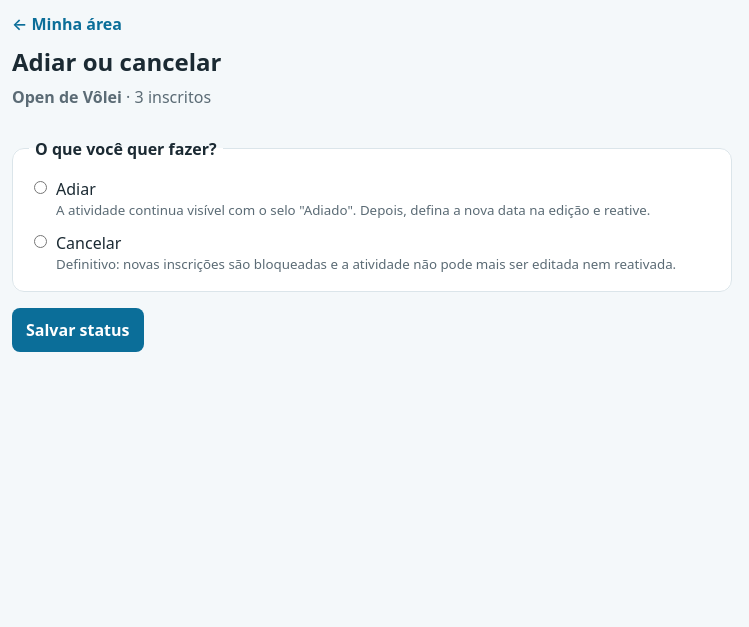
Test: AlterarStatusPage › mostra o erro da API
Click the radio button labelled "Adiar" at x=40, y=187, box 34,181 -> 47,194
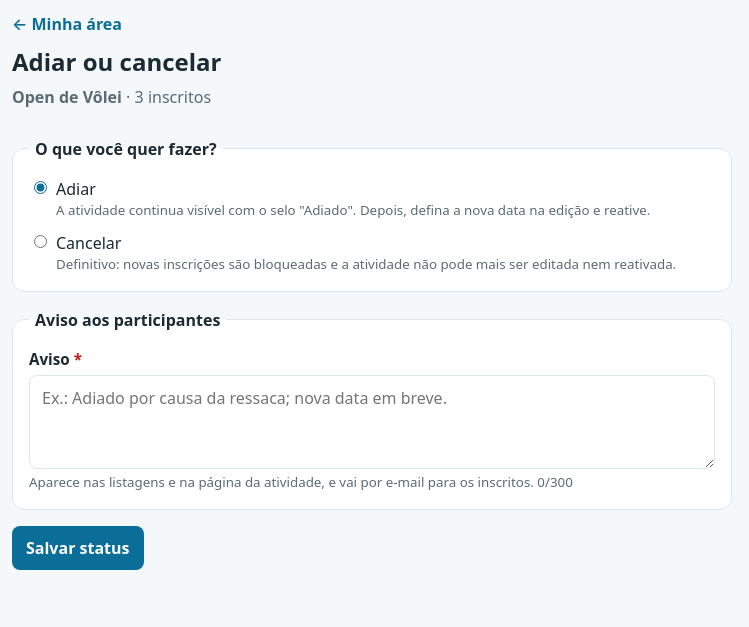
Type "Ressaca no mar." into the text box labelled "Aviso *" at x=372, y=422, box 29,375 -> 715,469
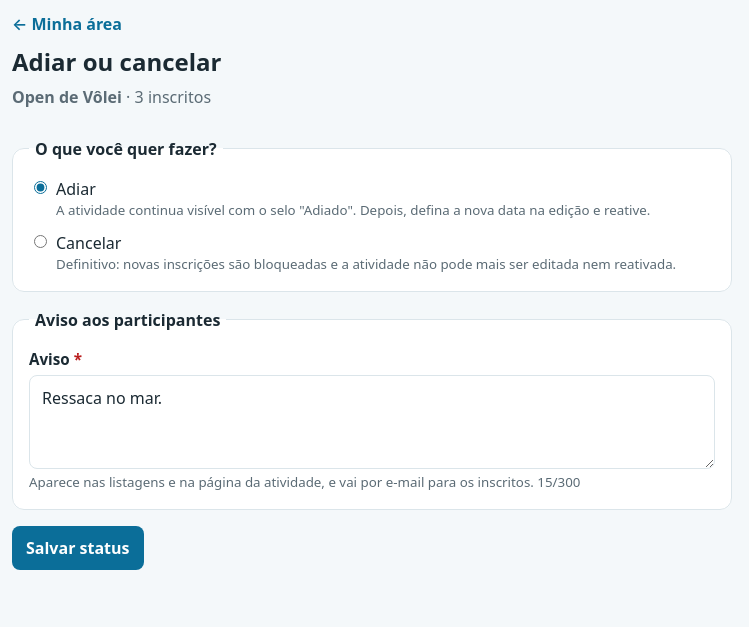
Click the button "Salvar status" at x=78, y=548, box 12,526 -> 144,570
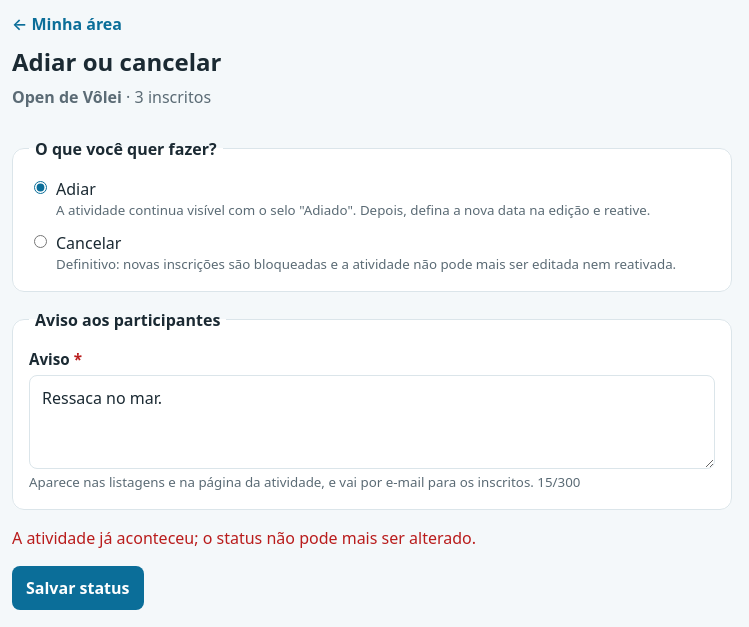
Check: the message shows "já aconteceu", box 12,526 -> 476,548
